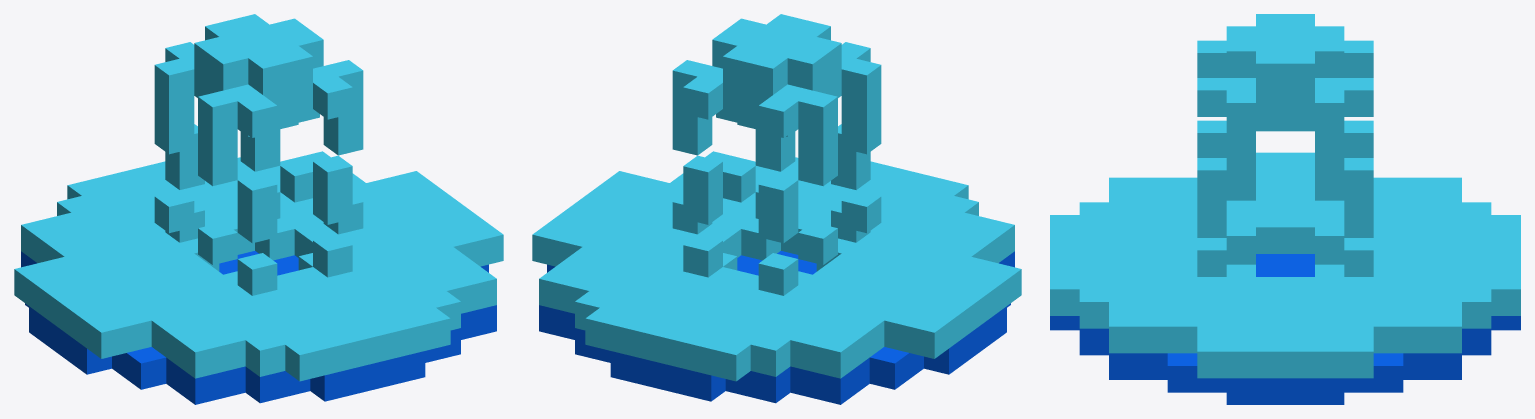
Rendered from --0-Water.obj.
3 renders of one model, left to right at view 1: azimuth 30°, elevation 25°; view 2: azimuth 150°, elevation 25°; view 3: azimuth 270°, elevation 25°, orthographic.
Visible parts, largest first — view 1: Water; view 2: Water; view 3: Water.
Boxes of the visible parts, box(x1,y1,x2,y2) form: Water: box(14, 14, 503, 404); Water: box(532, 14, 1021, 404); Water: box(1050, 14, 1520, 404).
Bounding box in the file's own units: 1.6 × 1 × 1.6.
1 material, 1 textured.
